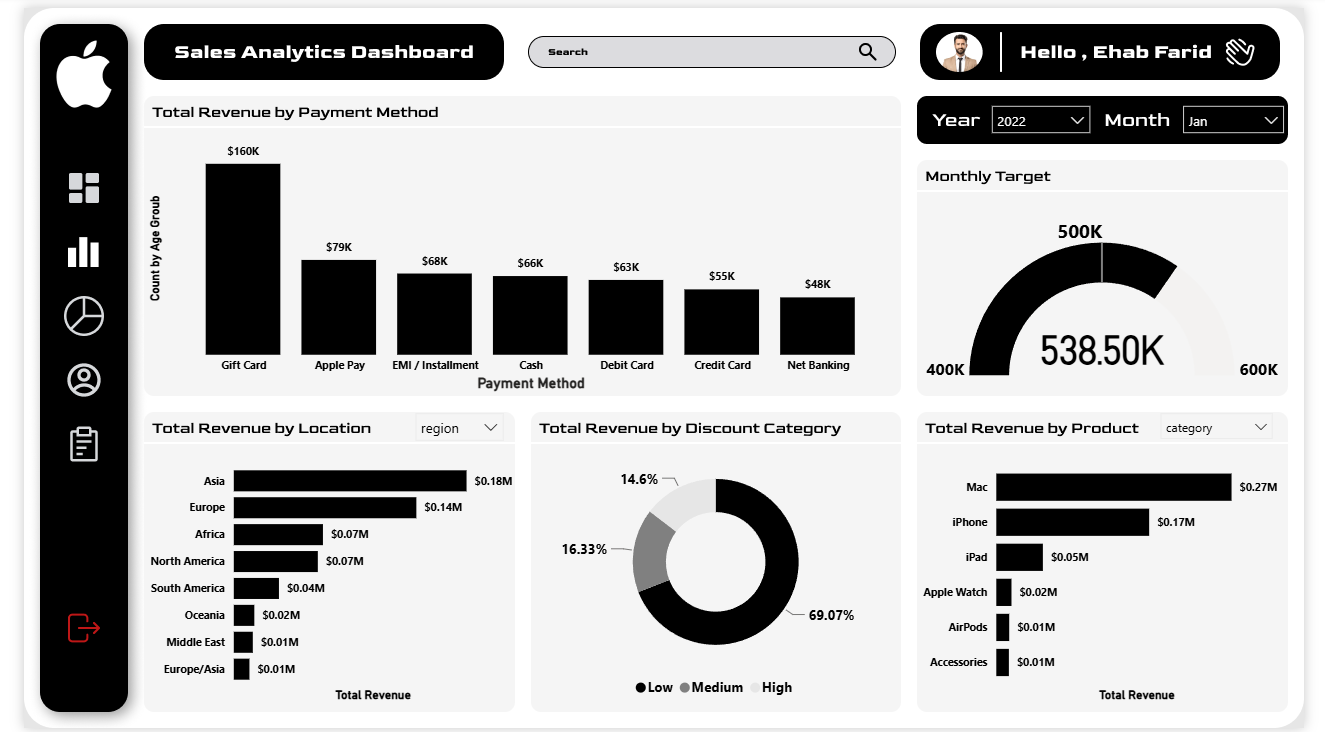

What the dashboard file says about the page in this screenshot:
{"tool":"powerbi","page":{"name":"Revenue","canvas":[1280,720],"ordinal":1},"visuals":[{"type":"barChart","fields":{"Category":["Dim City.city"],"Y":["Measures (2).Revenue"]},"box":[120,438.8,373.8,260],"z":0},{"type":"donutChart","fields":{"Category":["Fact.Discount Category"],"Y":["Measures (2).Revenue"]},"box":[507.5,438.8,368.8,260],"z":1000},{"type":"barChart","fields":{"Category":["Dim Product.category"],"Y":["Measures (2).Revenue"]},"box":[892.5,438.8,366.2,260],"z":2000},{"type":"columnChart","fields":{"Category":["Fact.payment_method"],"Y":["Measures (2).Revenue"]},"box":[120,120,756.2,268.8],"z":3000},{"type":"gauge","fields":{"MaxValue":["Measures (2).Max"],"MinValue":["Measures (2).Min"],"TargetValue":["Measures (2).Target"],"Y":["Filters.Revenue Filter"]},"box":[892.5,183.8,371.2,205],"z":4000},{"type":"slicer","fields":{"Values":["Date Dim.Year"]},"box":[957.1,87.1,118.6,48.6],"z":5000},{"type":"slicer","fields":{"Values":["Date Dim.Short Month"]},"box":[1148.8,87.5,121.2,47.5],"z":6000},{"type":"slicer","fields":{"Values":["Parameter 2.Parameter 2"]},"box":[381.4,395,108.2,43.6],"z":7000},{"type":"slicer","fields":{"Values":["Product.Parameter 1"]},"box":[1126.2,395,132.5,43.8],"z":8000},{"type":"actionButton","box":[40.4,159.1,40,40],"z":9000},{"type":"actionButton","box":[40,286.2,40,44.3],"z":10000},{"type":"actionButton","box":[40,352.9,40,38.6],"z":11000}]}

Visuals, with their boxes in screenshot pixels (x1, y1, x2, y2), scaled from the page's 1280x720 canvas onto the 1325x732 screenshot:
barChart - Dim City.city x Measures (2).Revenue: {"x1": 124, "y1": 446, "x2": 511, "y2": 710}
donutChart - Fact.Discount Category x Measures (2).Revenue: {"x1": 525, "y1": 446, "x2": 907, "y2": 710}
barChart - Dim Product.category x Measures (2).Revenue: {"x1": 924, "y1": 446, "x2": 1303, "y2": 710}
columnChart - Fact.payment_method x Measures (2).Revenue: {"x1": 124, "y1": 122, "x2": 907, "y2": 395}
gauge - Measures (2).Max x Measures (2).Min: {"x1": 924, "y1": 187, "x2": 1308, "y2": 395}
slicer - Date Dim.Year: {"x1": 991, "y1": 89, "x2": 1114, "y2": 138}
slicer - Date Dim.Short Month: {"x1": 1189, "y1": 89, "x2": 1315, "y2": 137}
slicer - Parameter 2.Parameter 2: {"x1": 395, "y1": 402, "x2": 507, "y2": 446}
slicer - Product.Parameter 1: {"x1": 1166, "y1": 402, "x2": 1303, "y2": 446}
actionButton: {"x1": 42, "y1": 162, "x2": 83, "y2": 202}
actionButton: {"x1": 41, "y1": 291, "x2": 83, "y2": 336}
actionButton: {"x1": 41, "y1": 359, "x2": 83, "y2": 398}
